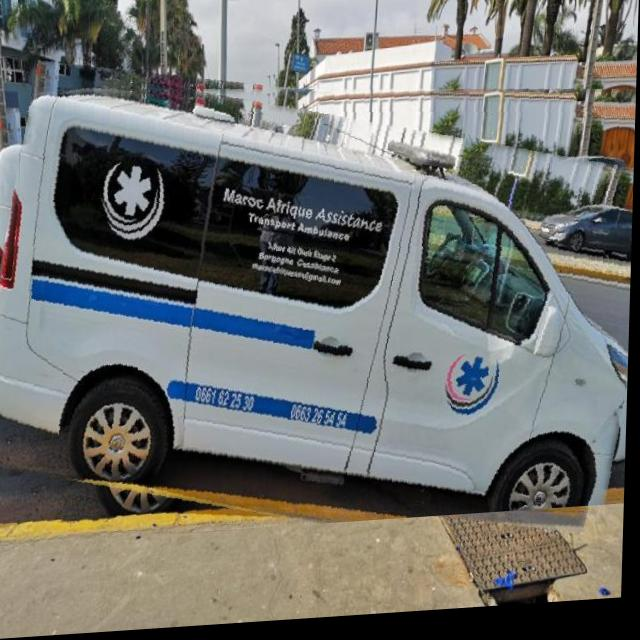ambulance: (0, 55, 638, 546)
